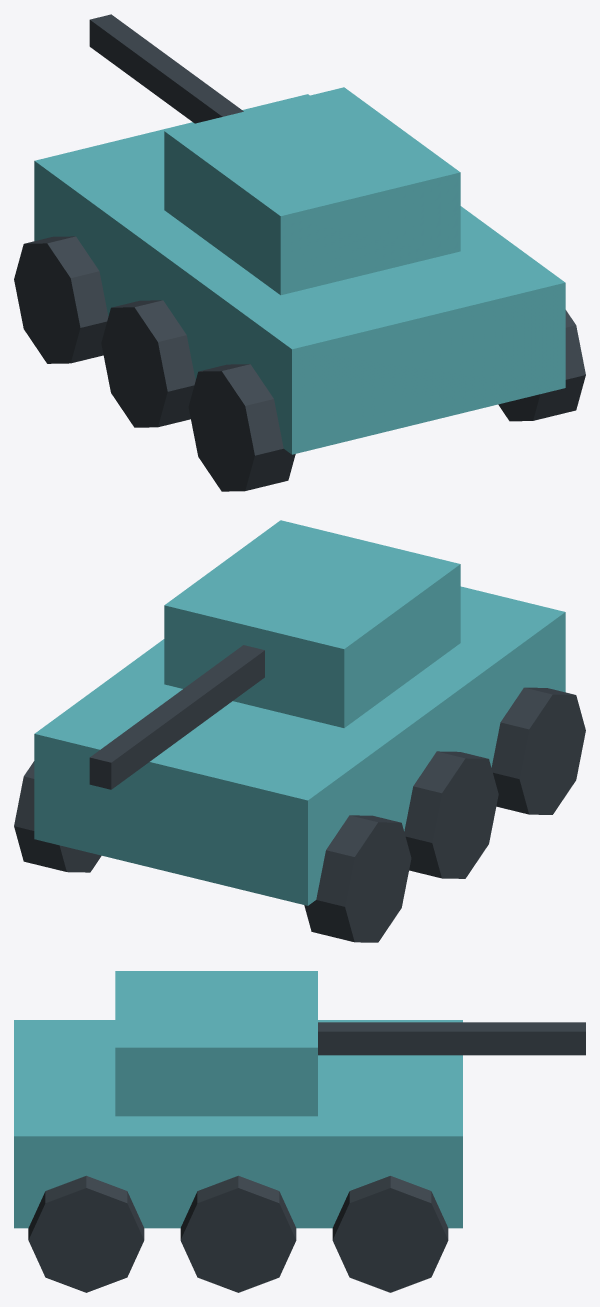
The model's file is Kestrel_LOD1.fbx.
3 views of the same model, one above another, from view 1: azimuth 30°, elevation 25°; view 2: azimuth 150°, elevation 25°; view 3: azimuth 270°, elevation 25° (orthographic). The views are drawn at different scales.
Parts seen in each view (by area): view 1: Hull, Turret, Wheel, Wheel.001, Wheel.002, Barrel, Wheel.003; view 2: Hull, Turret, Wheel.002, Wheel.001, Wheel, Barrel, Wheel.005; view 3: Hull, Turret, Wheel.004, Wheel.003, Wheel.005, Barrel.
Boxes of the visible parts, box(x1,y1,x2,y2) form: Hull: box(34, 94, 565, 454); Turret: box(164, 87, 460, 295); Wheel: box(188, 364, 295, 491); Wheel.001: box(101, 300, 195, 427); Wheel.002: box(14, 236, 108, 363); Barrel: box(89, 14, 243, 123); Wheel.003: box(498, 310, 585, 421); Hull: box(34, 586, 565, 905); Turret: box(164, 520, 460, 727); Wheel.002: box(304, 815, 411, 942); Wheel.001: box(404, 751, 498, 878); Wheel: box(491, 687, 585, 814); Barrel: box(89, 645, 264, 789); Wheel.005: box(14, 761, 101, 872); Hull: box(14, 1020, 462, 1228); Turret: box(115, 971, 317, 1116); Wheel.004: box(180, 1175, 296, 1292); Wheel.003: box(28, 1175, 144, 1292); Wheel.005: box(332, 1176, 448, 1292); Barrel: box(318, 1022, 585, 1055).
Bounding box in the file's own units: 230 × 163 × 395.
